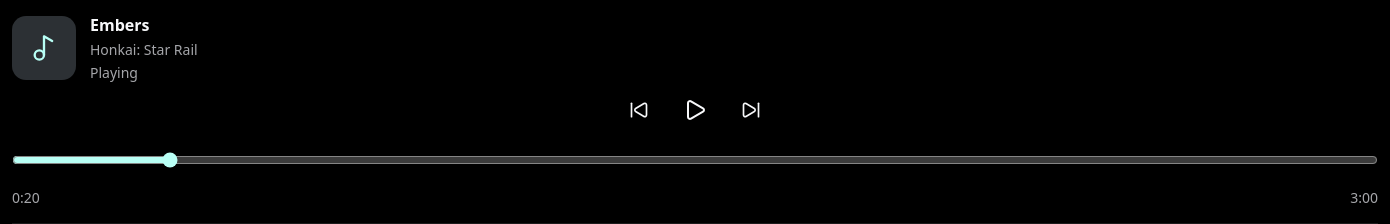
Scenario: PlayerBar › tolerates browsers that reject individual system media actions and position state
(page scrolled)
Set the slider named "Seek" to "45" at (358, 160), box [12,138,1378,182]
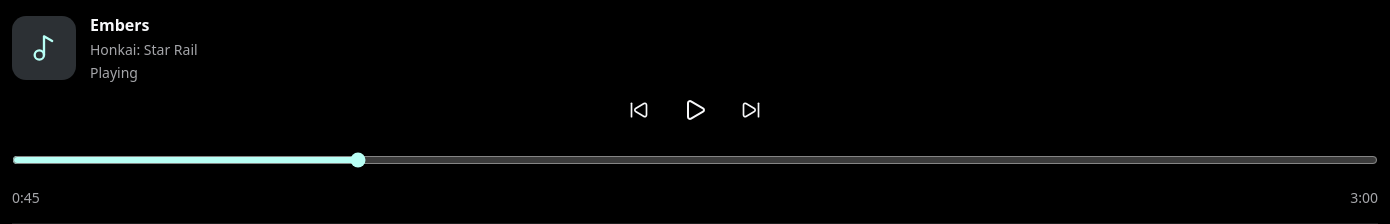
Expected: the text "0:45" is shown, [12,188,40,207]
